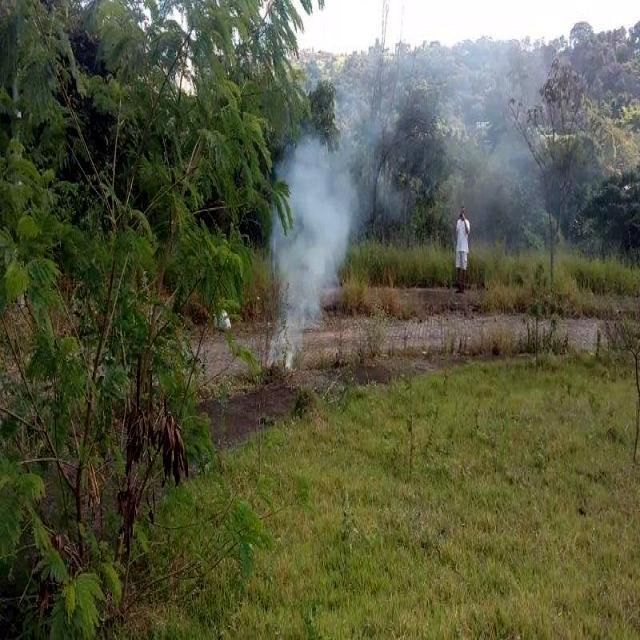Smoke: (262, 60, 391, 368), (388, 0, 551, 235)
